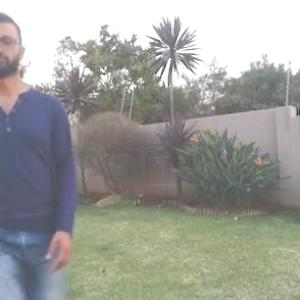follow: (1, 7, 87, 299)
